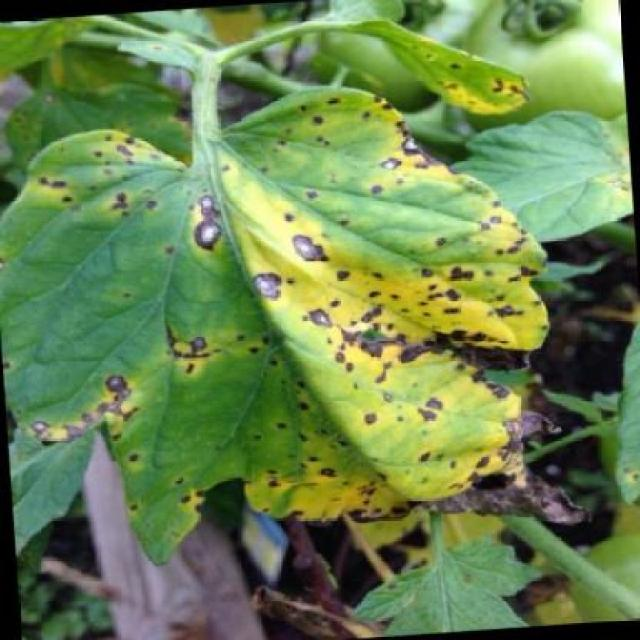Septoria leaf spot: (0, 69, 565, 565)
